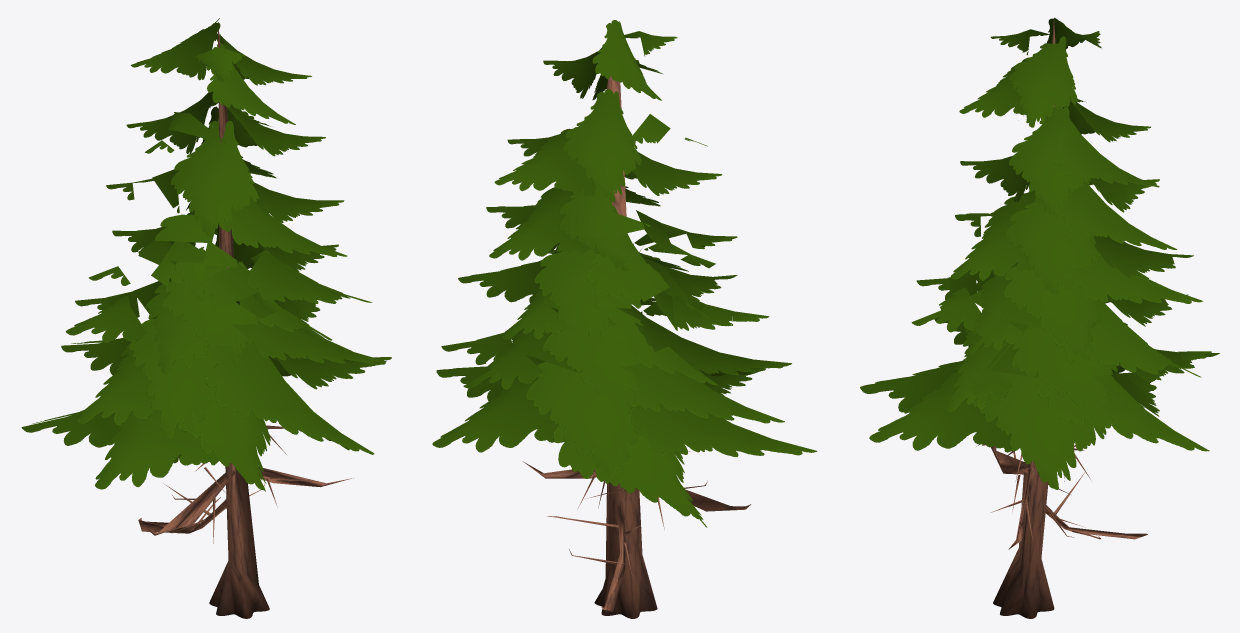
File: mk-pine-4-lo.glb
3 views of the same model, side by side, from view 1: azimuth 30°, elevation 25°; view 2: azimuth 150°, elevation 25°; view 3: azimuth 270°, elevation 25° (orthographic). The views are drawn at different scales.
Visible parts, largest first — view 1: Pine_4; view 2: Pine_4; view 3: Pine_4.
Part boxes in pixels (x1=…): Pine_4: x1=21, y1=18, x2=391, y2=618; Pine_4: x1=432, y1=20, x2=817, y2=618; Pine_4: x1=860, y1=17, x2=1219, y2=618.
Bounding box in the file's own units: 6.19 × 10.01 × 5.74.
2 materials, 2 textured.
